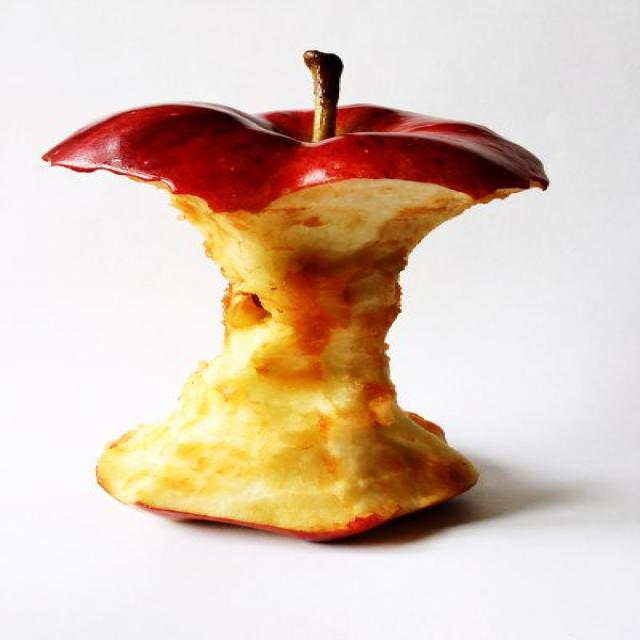apple_fruit: (0, 4, 604, 609)
